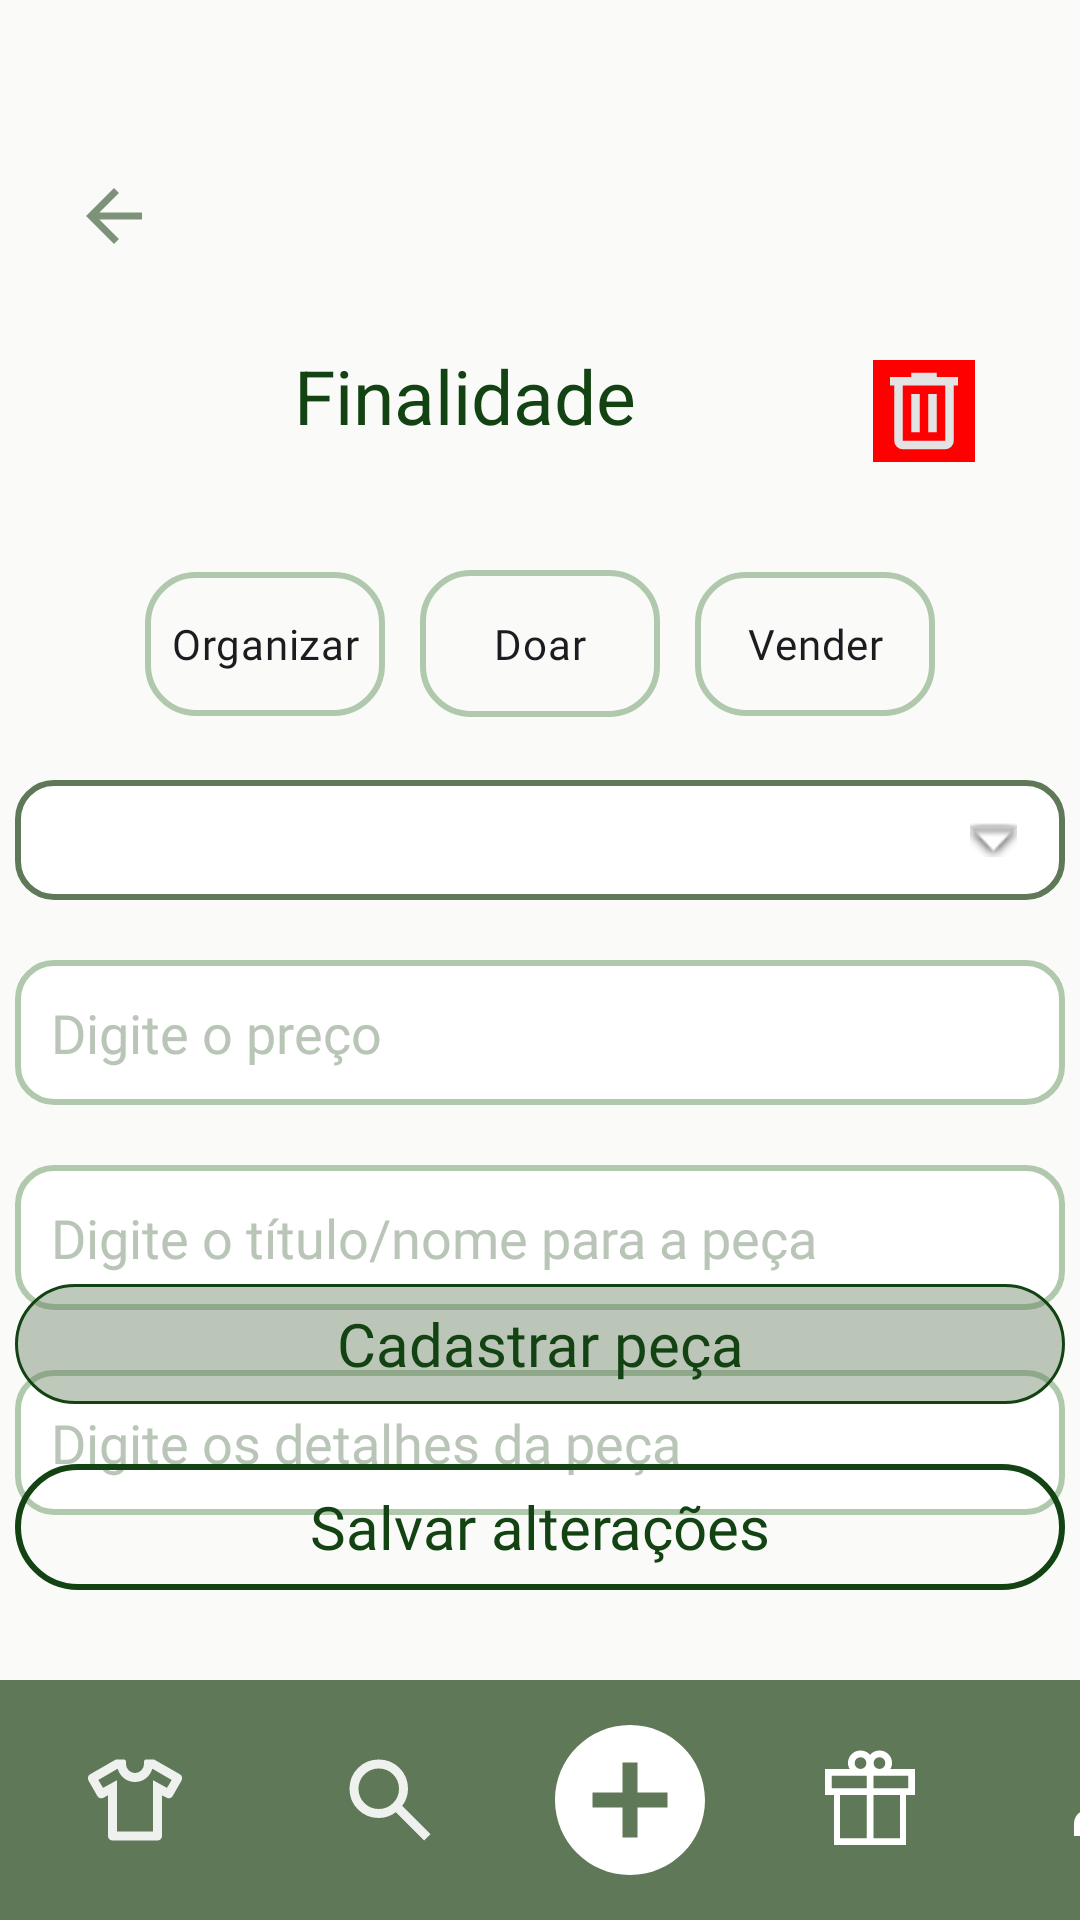

Icons on this 1080px x 1920px Android screen, each with the point to tap as (x=x, y=y):
add circle: (x=630, y=1800)
iconedoacao: (x=870, y=1797)
search branco: (x=390, y=1800)
trashicon: (x=924, y=411)
